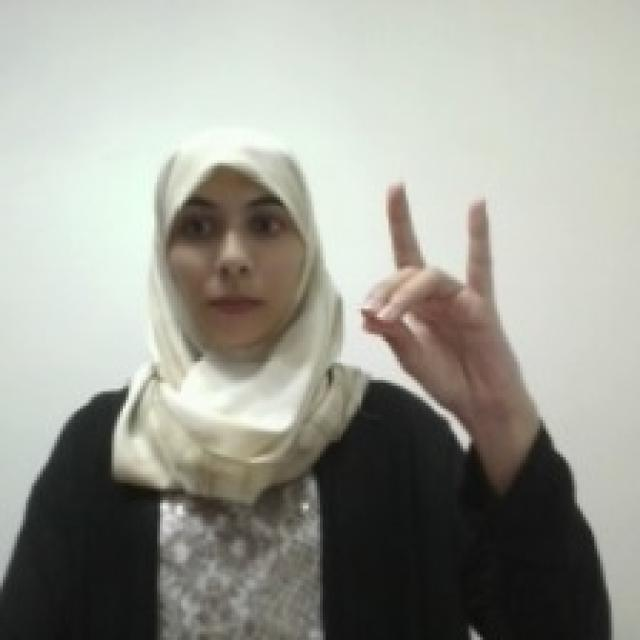Dog: (356, 173, 508, 416)
